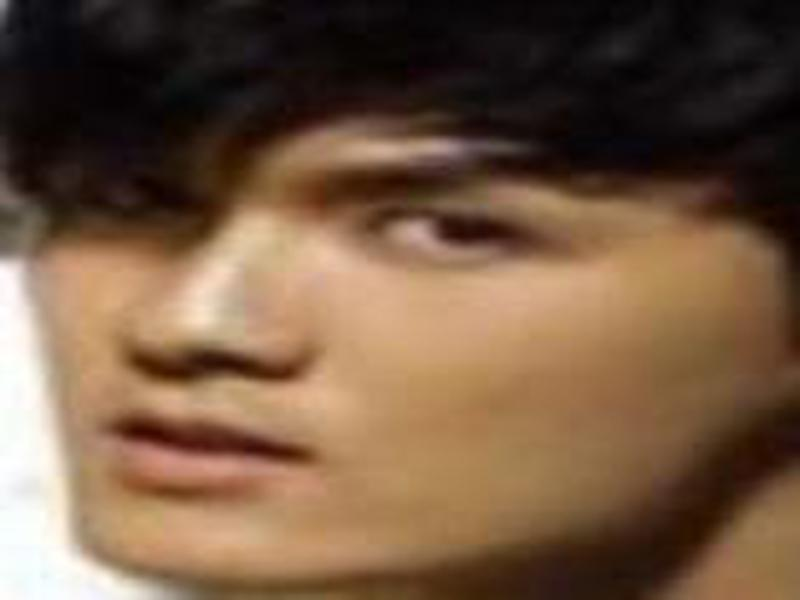without_mask: (23, 106, 716, 578)
